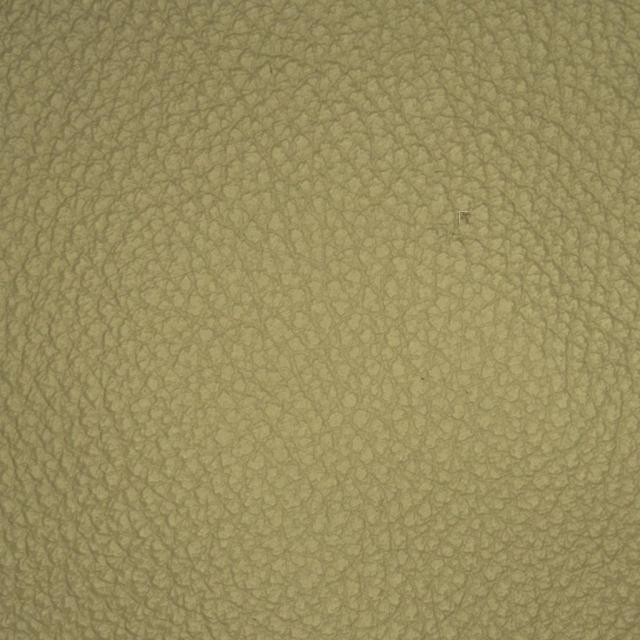Hole: (413, 150, 529, 292)
